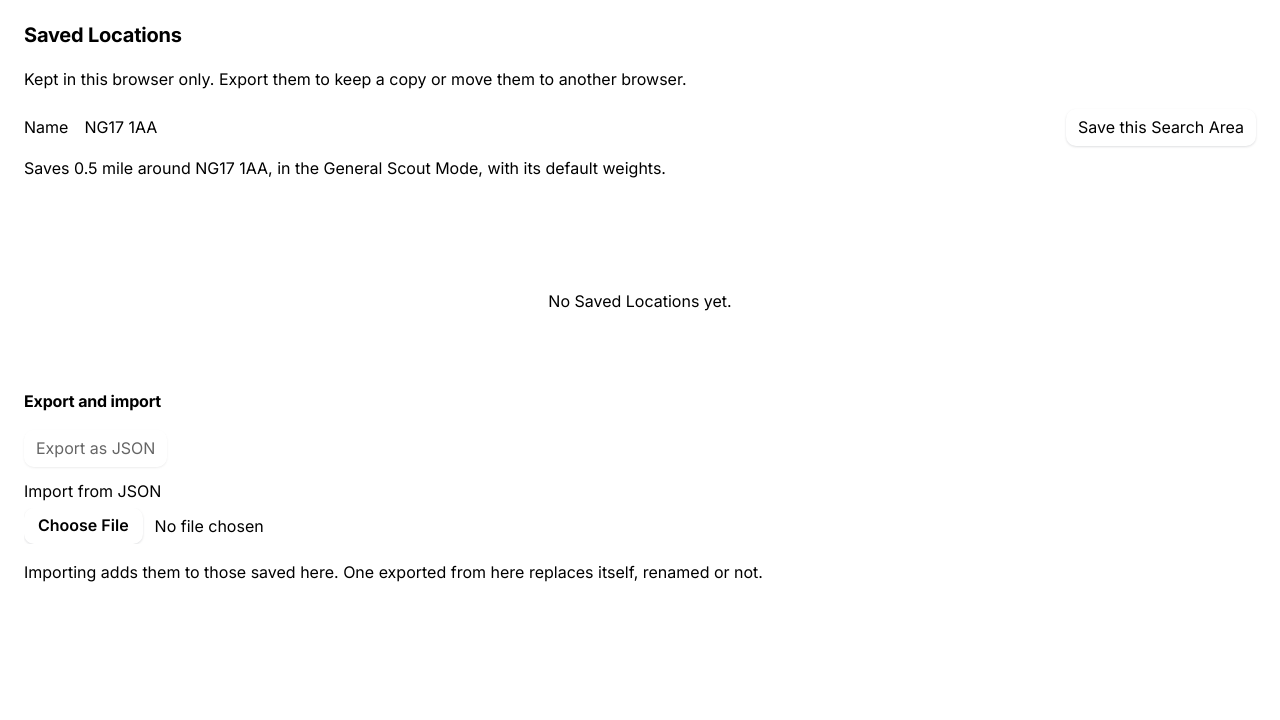
Test: SavedLocationsPanel › says when the browser refuses a change, and makes none
Type "Home" into the field labelled "Name" at (567, 128), box left=76, top=108, right=1058, bottom=148
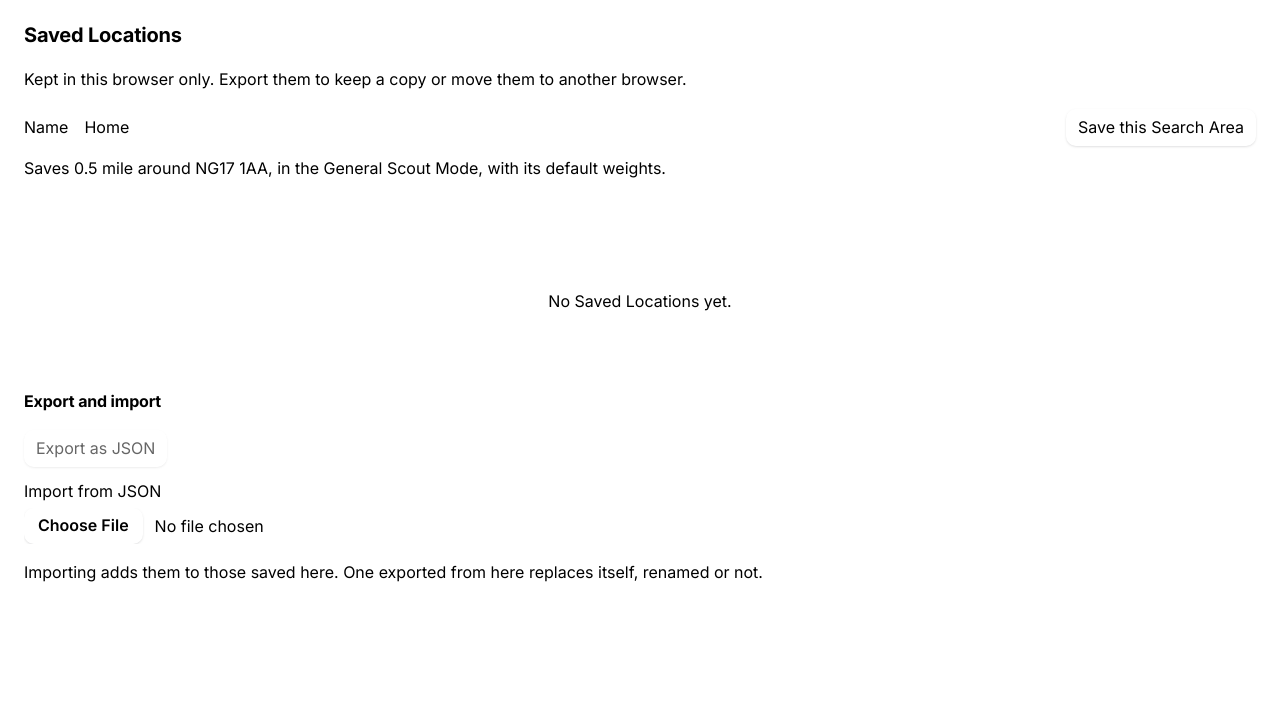
Click the button "Save this Search Area" at (1161, 128), box left=1066, top=109, right=1256, bottom=146
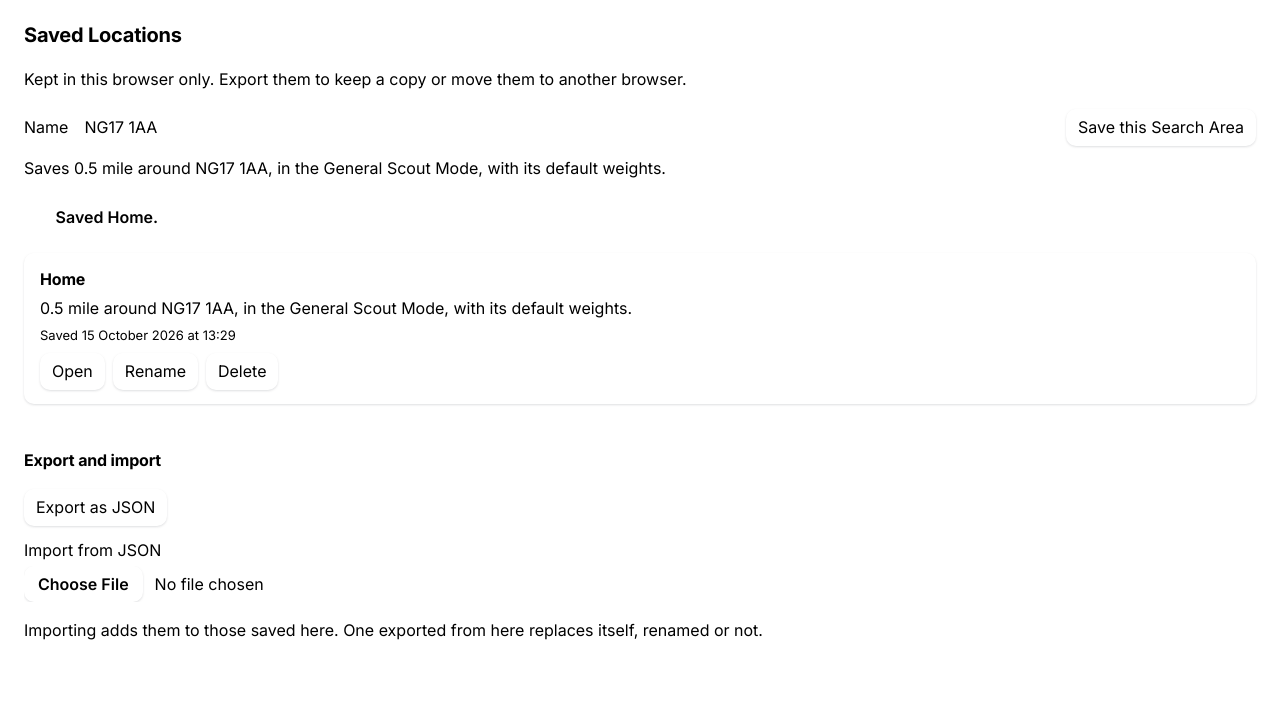
Type "Station" into the field labelled "Name" at (567, 128), box left=76, top=108, right=1058, bottom=148
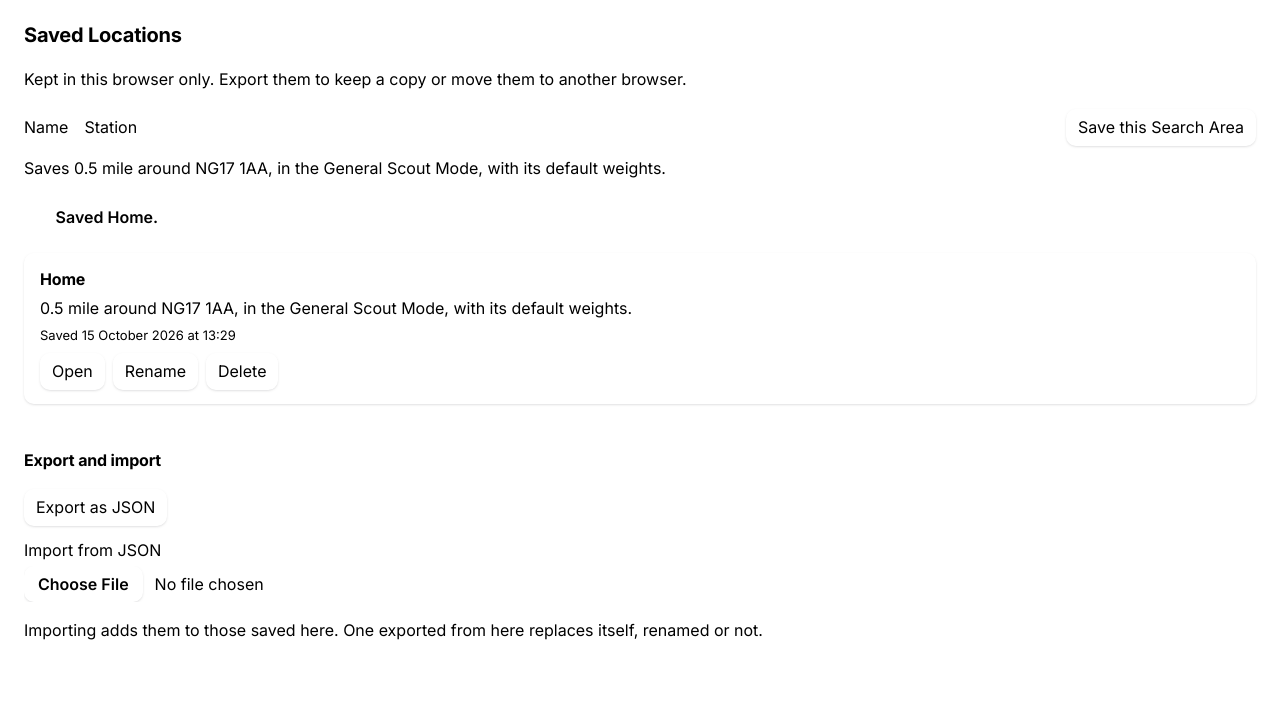
Click the button "Save this Search Area" at (1161, 128), box left=1066, top=109, right=1256, bottom=146
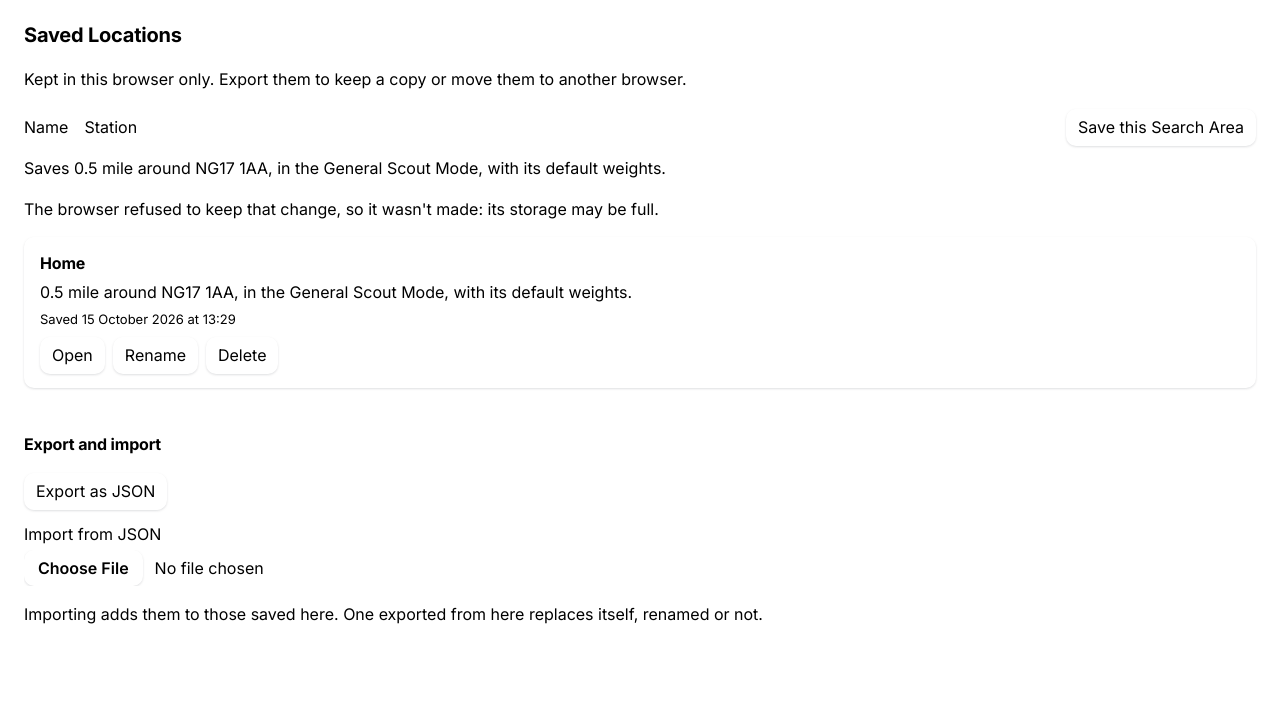
Now the message shows "The browser refused to keep that change, so it wasn't made: its storage may be full.", box left=24, top=199, right=659, bottom=219
